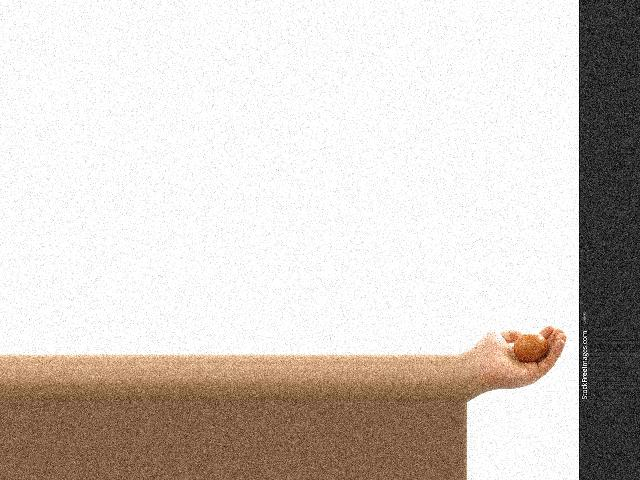egg: (513, 333, 550, 361)
